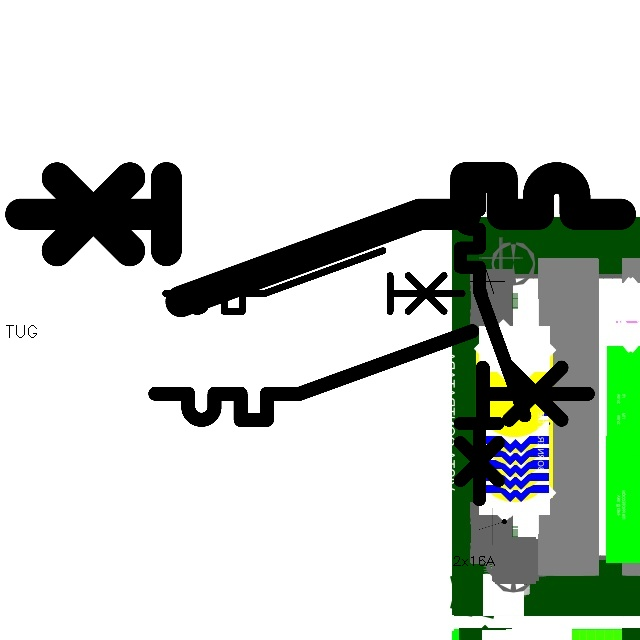interruptor_termomagnetico: (5, 162, 636, 316), (144, 320, 599, 431), (452, 178, 532, 508), (158, 243, 470, 319)
